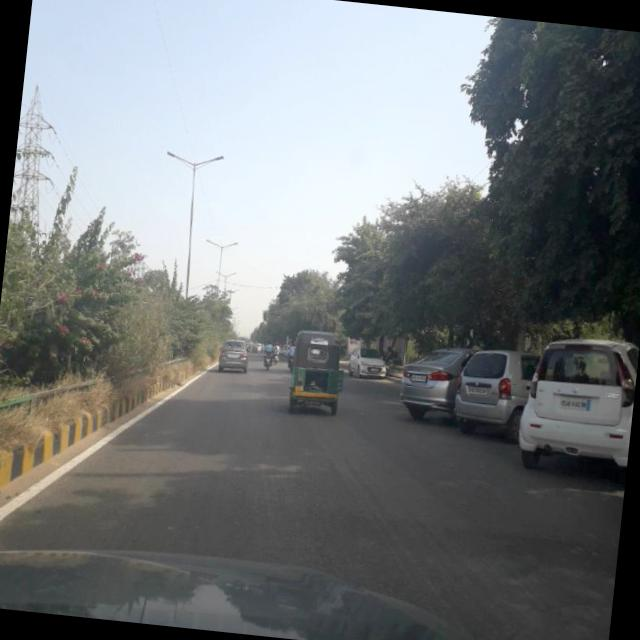crack: (233, 426, 350, 564)
